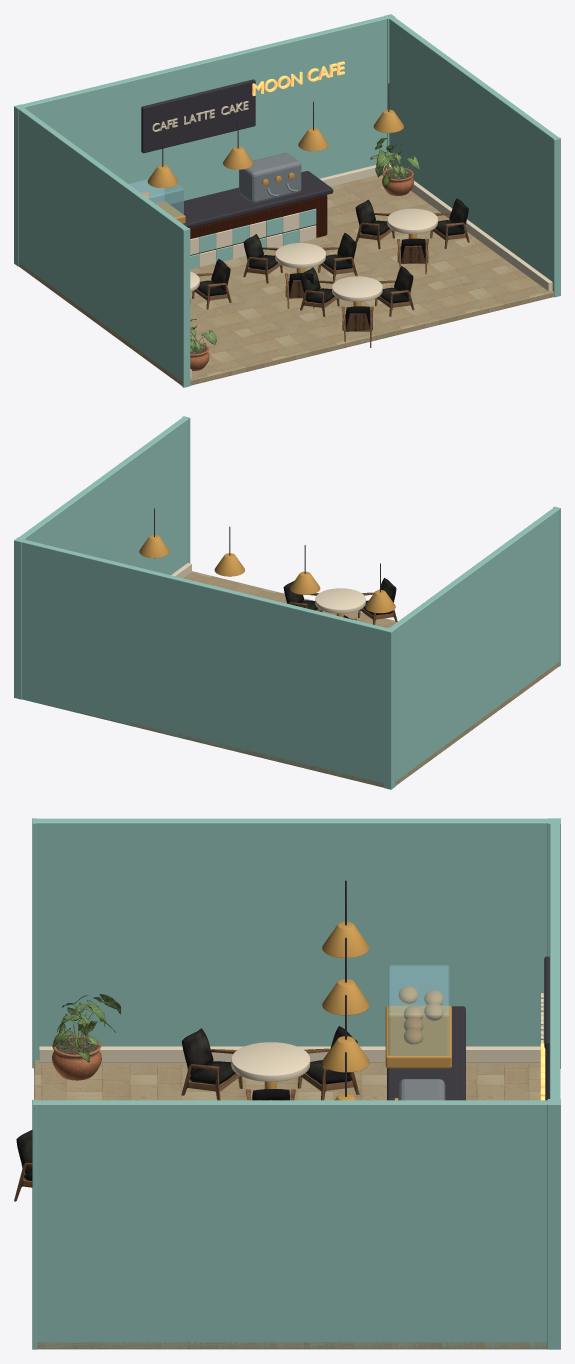
Rendered from stylized_cafe_interior.glb.
The picture shows the model from 3 angles, top to bottom: view 1: azimuth 30°, elevation 25°; view 2: azimuth 150°, elevation 25°; view 3: azimuth 270°, elevation 25°; orthographic projection. The views are drawn at different scales.
Visible parts, largest first — view 1: RefinedSurface_Cafe_MintWall, Cafe_Floor, RefinedSurface_Cafe_DarkCounter, RefinedSurface_Cafe_Cream, RefinedSurface_Cafe_Brass, RefinedSurface_Cafe_Steel, Cafe_ServiceCounter, Refined_CafePlant_2, Cafe_PastryDisplay_Glass, Refined_CafeChair_2_2, Refined_CafeChair_1_1, Refined_CafeChair_3_2 (+9 smaller); view 2: RefinedSurface_Cafe_MintWall, Cafe_Floor, RefinedSurface_Cafe_Brass, RefinedSurface_Cafe_Cream, Refined_CafeChair_4_3; view 3: RefinedSurface_Cafe_MintWall, Cafe_Floor, RefinedSurface_Cafe_Brass, RefinedSurface_Cafe_Cream, Cafe_PastryDisplay_Glass, RefinedSurface_Cafe_DarkCounter, Refined_CafePlant_1, Refined_CafeChair_1_3, RefinedSurface_Cafe_Pastry, Refined_CafeChair_1_2, RefinedSurface_Cafe_Steel, Refined_CafeChair_4_3.
Part boxes in pixels (x1,y1,x2,y2): RefinedSurface_Cafe_MintWall: (14,14,560,387); Cafe_Floor: (18,174,553,385); RefinedSurface_Cafe_DarkCounter: (141,79,389,228); RefinedSurface_Cafe_Cream: (152,101,552,378); RefinedSurface_Cafe_Brass: (147,109,416,306); RefinedSurface_Cafe_Steel: (239,153,301,203); Cafe_ServiceCounter: (190,195,327,255); Refined_CafePlant_2: (370,138,419,195); Cafe_PastryDisplay_Glass: (128,178,183,217); Refined_CafeChair_2_2: (243,234,282,283); Refined_CafeChair_1_1: (192,259,231,309); Refined_CafeChair_3_2: (355,199,394,249); RefinedSurface_Cafe_MintWall: (14,416,560,789); Cafe_Floor: (64,571,559,787); RefinedSurface_Cafe_Brass: (139,535,395,616); RefinedSurface_Cafe_Cream: (171,563,365,613); Refined_CafeChair_4_3: (358,578,397,624); RefinedSurface_Cafe_MintWall: (32,818,560,1349); Cafe_Floor: (34,1060,546,1349); RefinedSurface_Cafe_Brass: (264,921,451,1100); RefinedSurface_Cafe_Cream: (39,993,543,1081); Cafe_PastryDisplay_Glass: (388,965,449,1055); RefinedSurface_Cafe_DarkCounter: (345,880,549,1100); Refined_CafePlant_1: (52,994,120,1080); Refined_CafeChair_1_3: (181,1028,242,1100); RefinedSurface_Cafe_Pastry: (398,986,443,1044); Refined_CafeChair_1_2: (297,1026,359,1100); RefinedSurface_Cafe_Steel: (398,1079,445,1100); Refined_CafeChair_4_3: (14,1130,32,1201).
Bounding box in the file's own units: 9.02 × 3.6 × 7.28.
14 materials, 6 textured.
